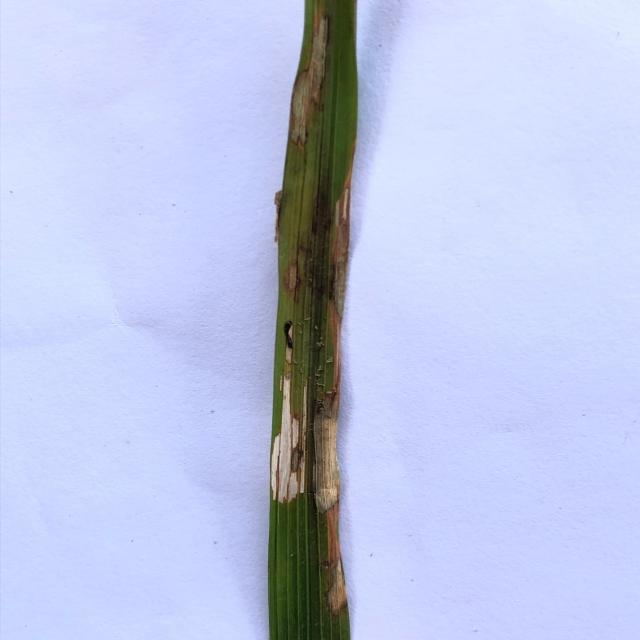Leaf Blight: (315, 130, 356, 614), (271, 322, 307, 504), (289, 0, 328, 148), (288, 260, 299, 294)
